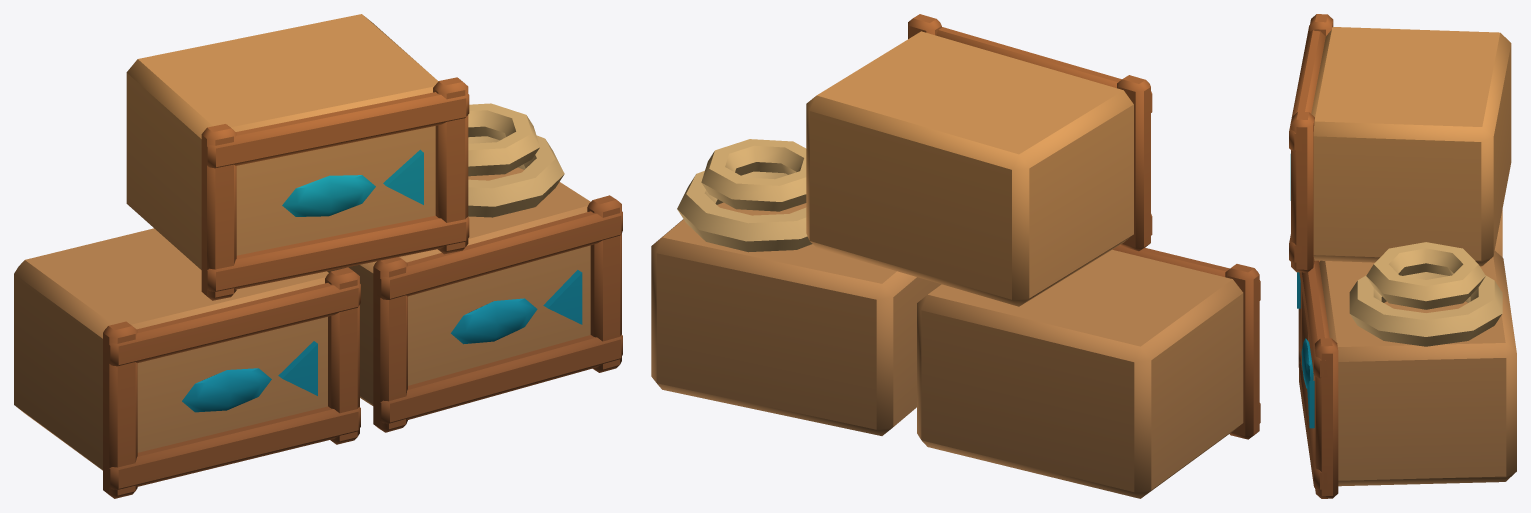
Rendered from crate_stack.glb.
3 renders of one model, left to right at view 1: azimuth 30°, elevation 25°; view 2: azimuth 150°, elevation 25°; view 3: azimuth 270°, elevation 25°, orthographic. The views are drawn at different scales.
Visible parts, largest first — view 1: crate_stack; view 2: crate_stack; view 3: crate_stack.
Part boxes in pixels (left/top/right/bottom): crate_stack: left=14, top=14, right=622, bottom=498; crate_stack: left=651, top=14, right=1260, bottom=498; crate_stack: left=1289, top=14, right=1516, bottom=498.
Bounding box in the file's own units: 1.46 × 0.9 × 0.6084.
